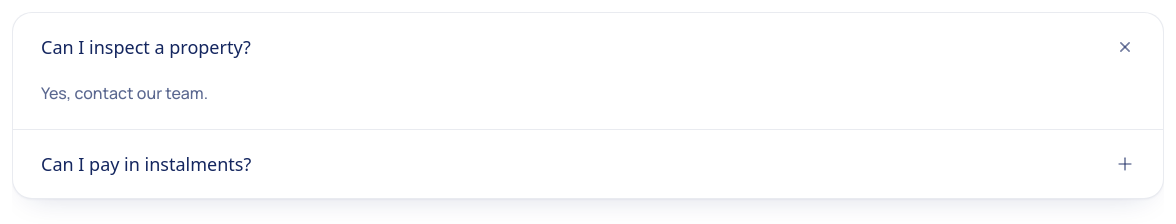
Scenario: Accordion › keeps one item open at a time and can close the open item
Click the button "Can I pay in instalments?".
click(146, 164)  # box [13,130,1163,198]
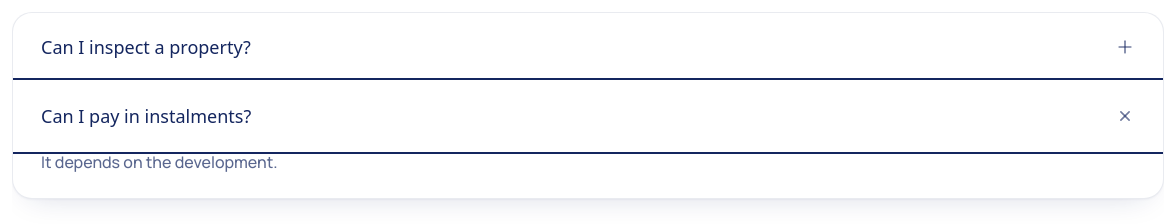
Result: the button "Can I pay in instalments?" is expanded
Result: the button "Can I inspect a property?" is collapsed at [13,13,1163,81]
Result: the text "It depends on the development." is shown at [41,151,278,173]
Click the button "Can I pay in instalments?".
click(146, 116)  # box [13,82,1163,150]
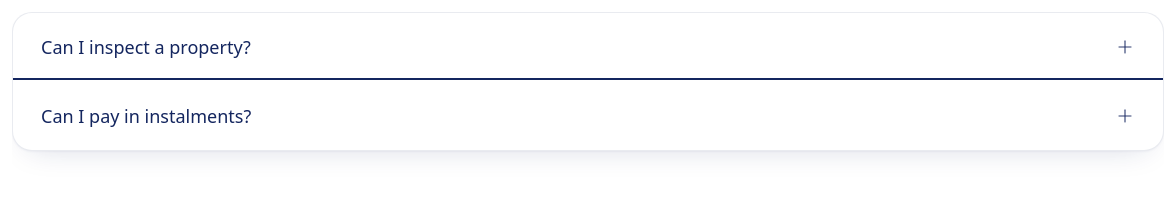
Result: the button "Can I pay in instalments?" is collapsed at [13,82,1163,150]
